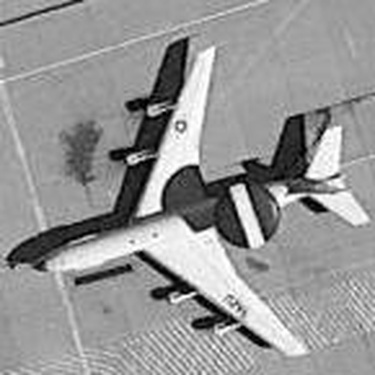airplane: (10, 17, 373, 366)
